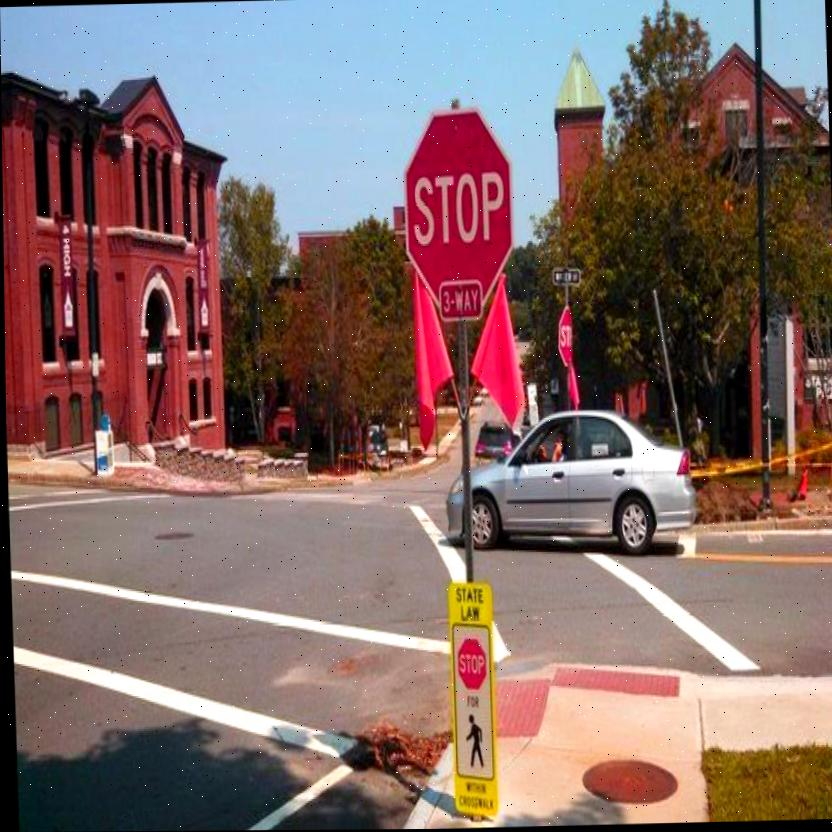Pole: (454, 323, 475, 582)
Sign: (401, 110, 517, 317)
